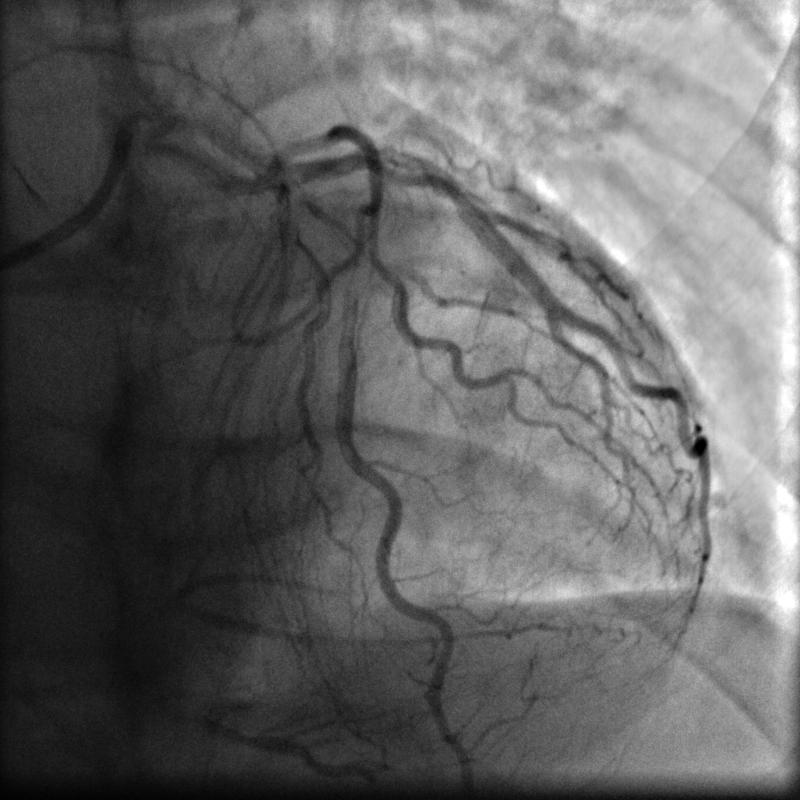Stenosis: (344, 238, 371, 311)
